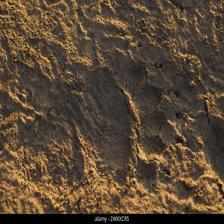bear: (80, 58, 186, 186)
